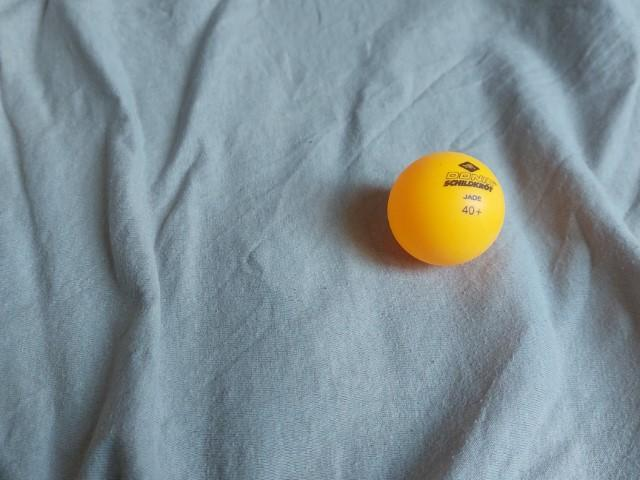oball: (384, 148, 510, 273)
